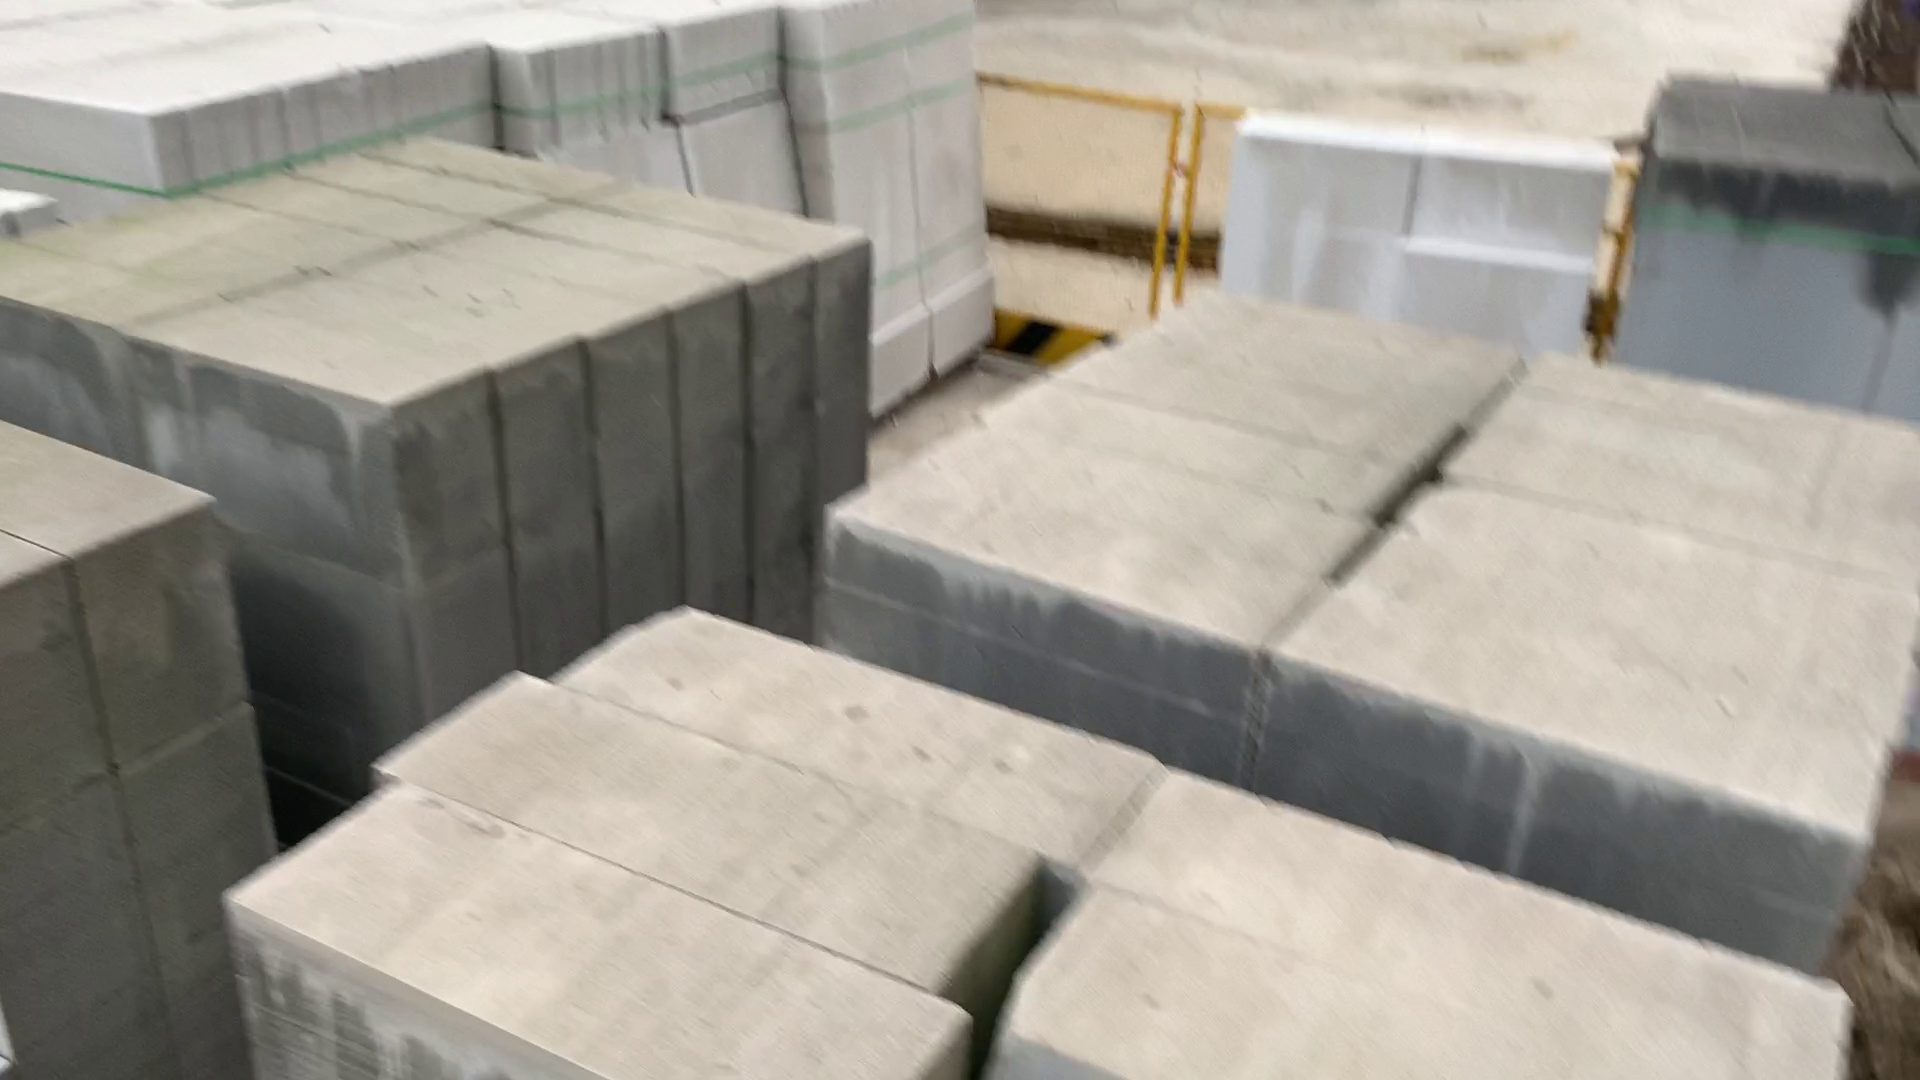brickwork: (225, 612, 1841, 1080), (864, 284, 1920, 862), (11, 156, 880, 430), (4, 431, 233, 1068), (800, 7, 1007, 381), (1642, 73, 1920, 334), (4, 12, 477, 149)
